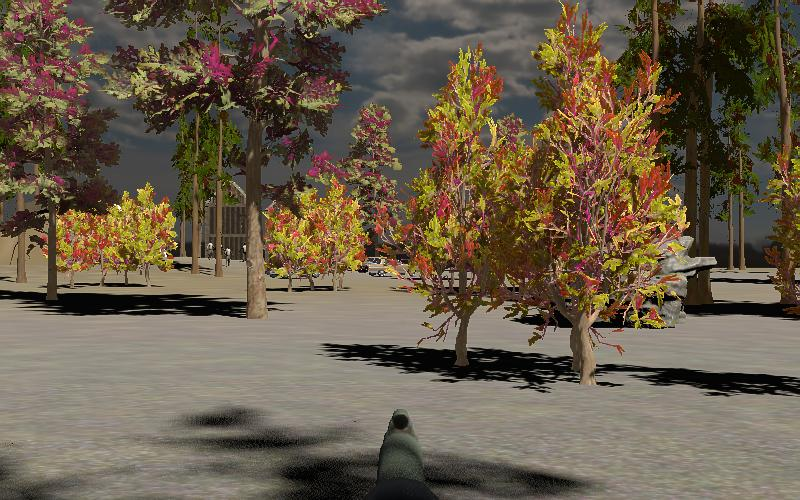House: (198, 175, 251, 258)
car: (357, 255, 401, 277)
